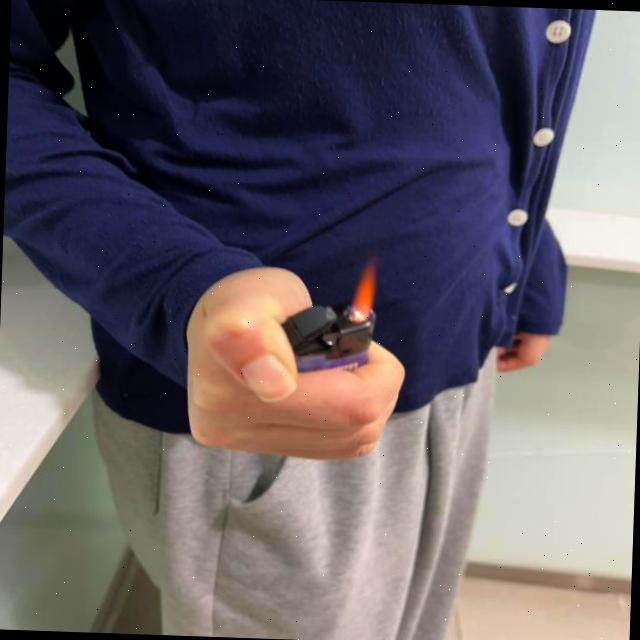fire: (352, 256, 376, 322)
